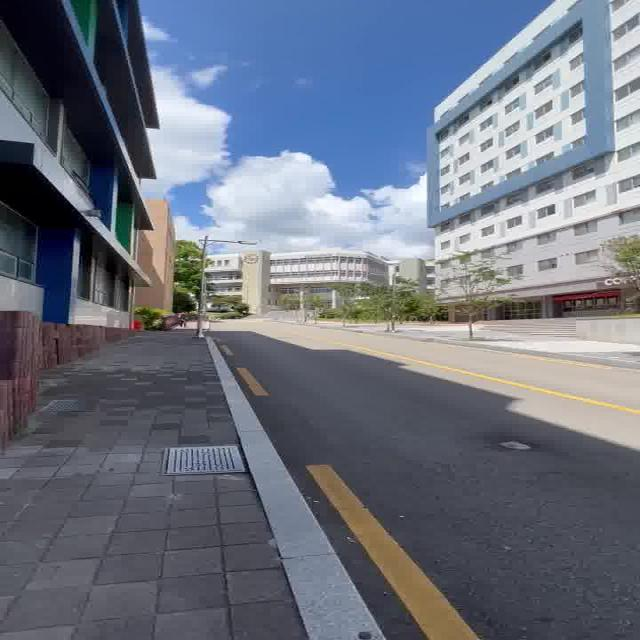building: (215, 240, 423, 292)
